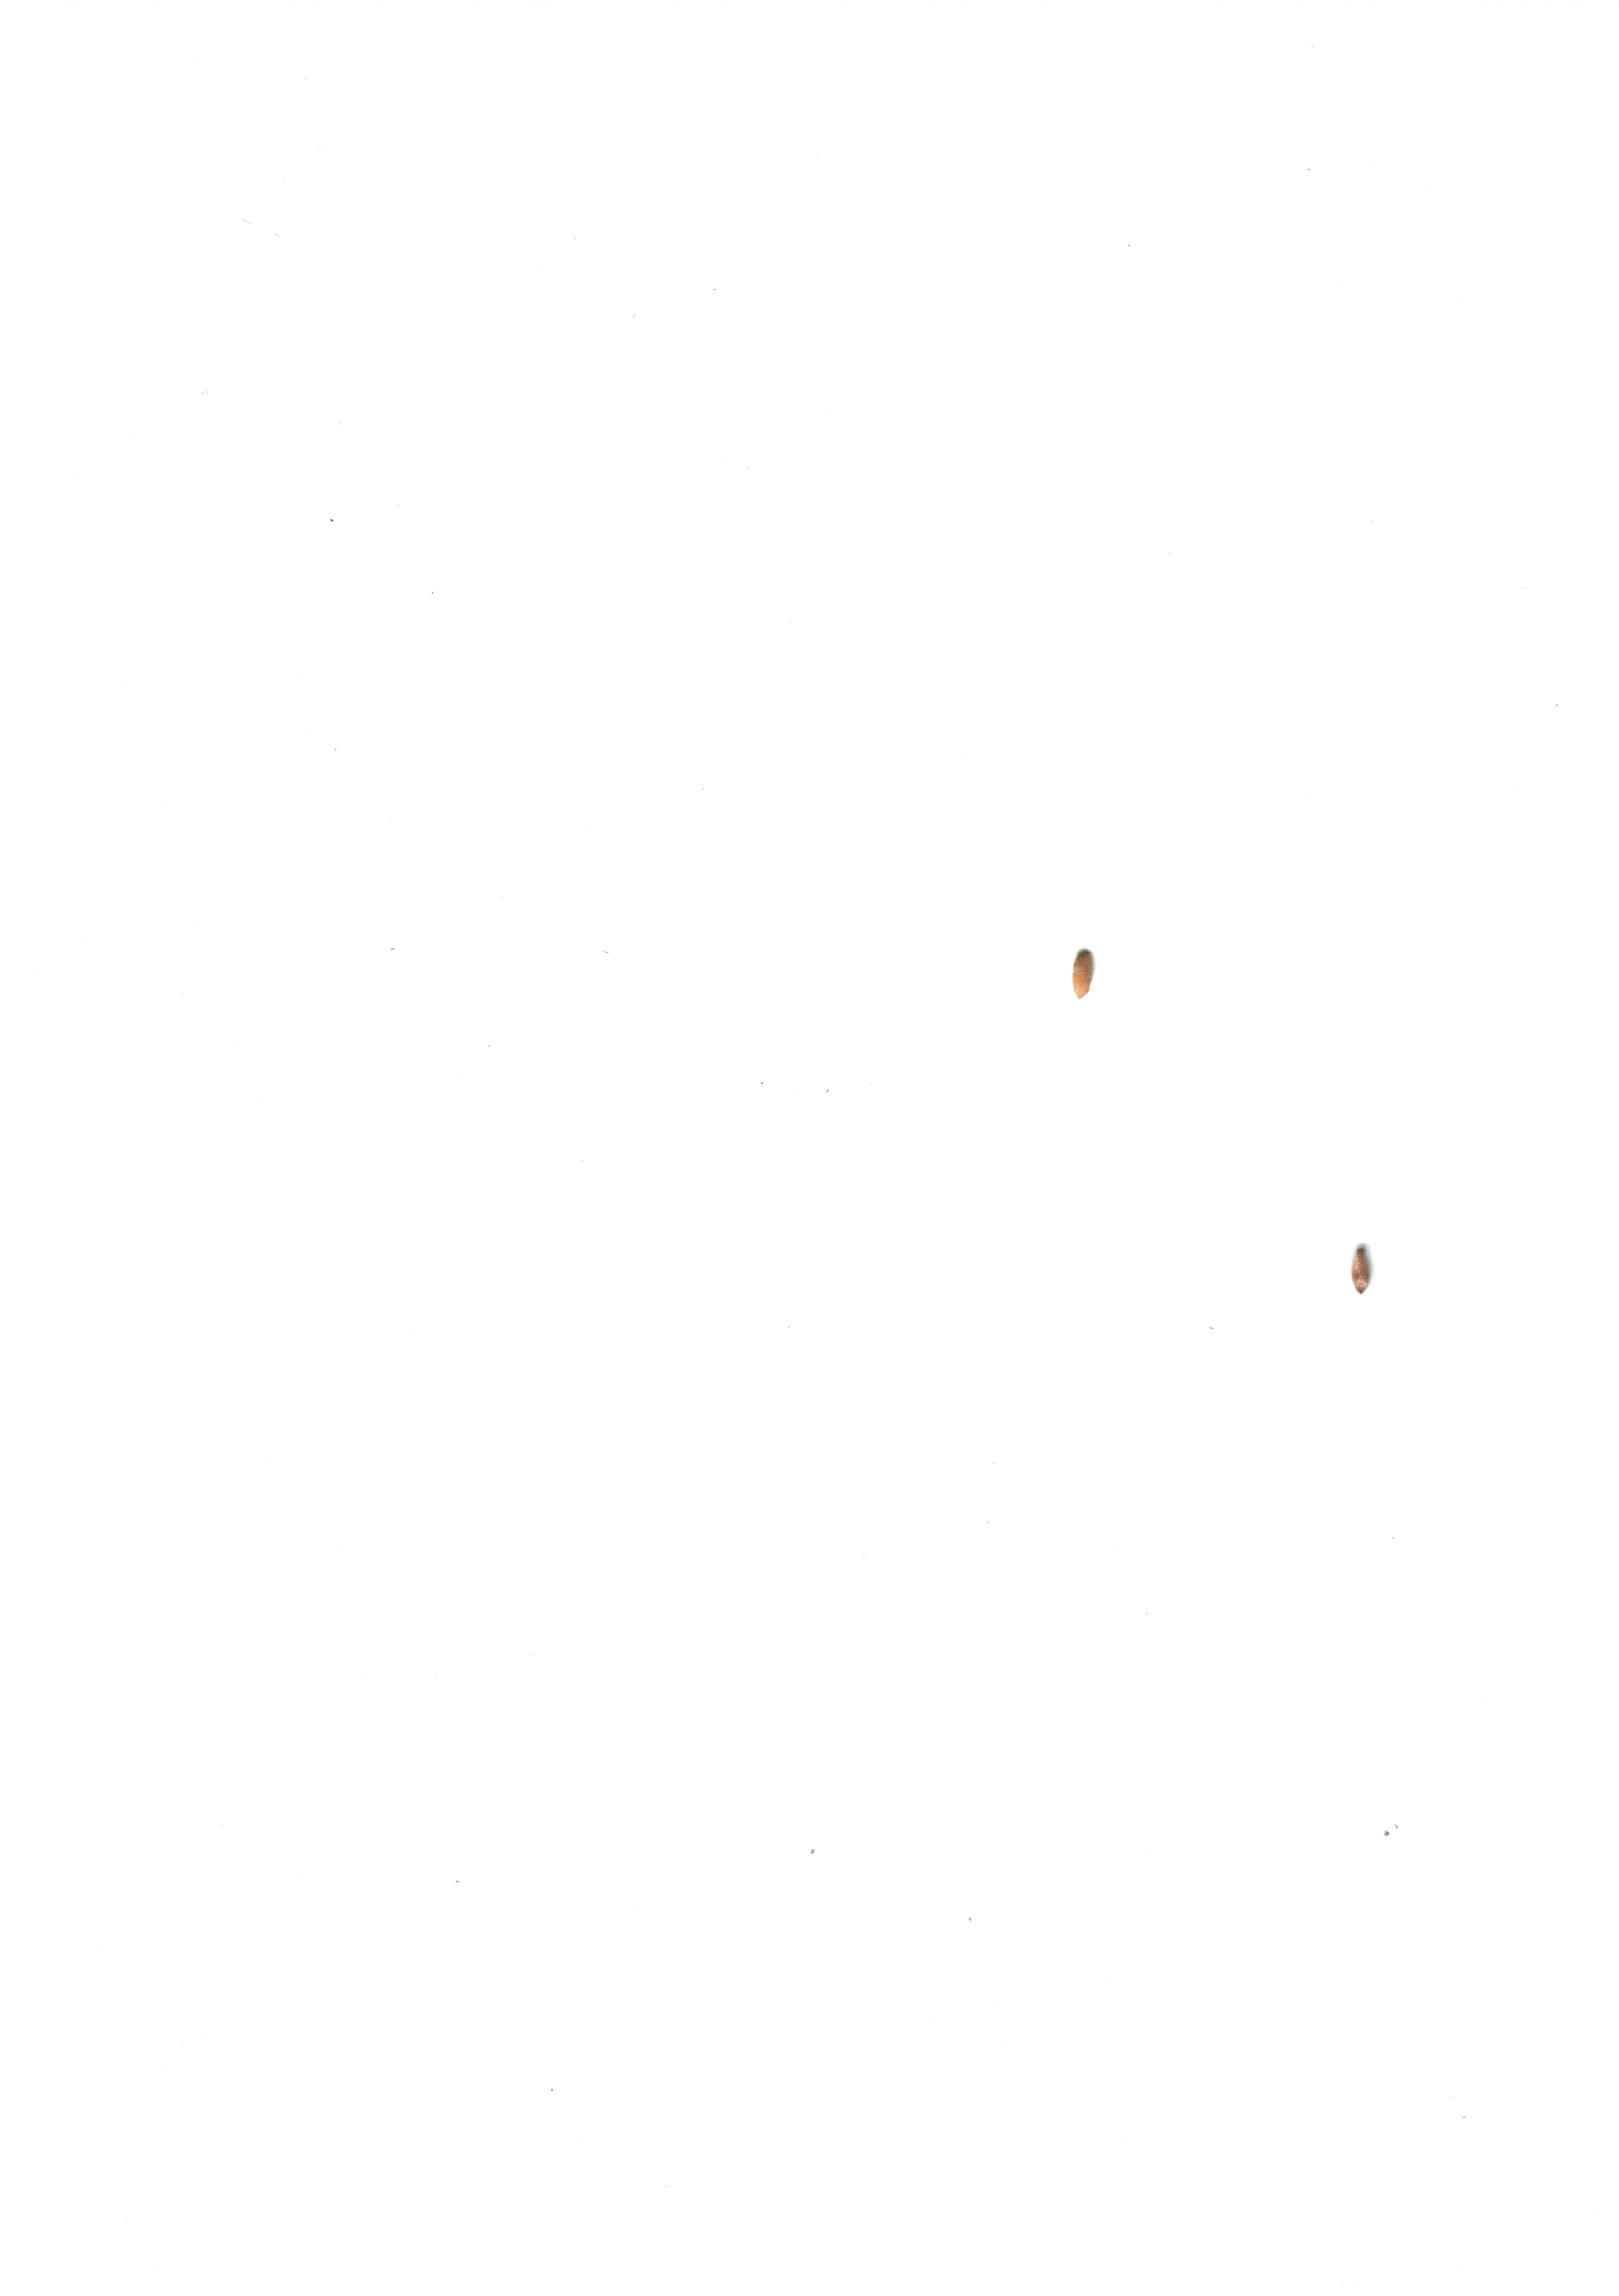grains_2mm: (1335, 1237, 1388, 1316), (1060, 938, 1107, 1015)
